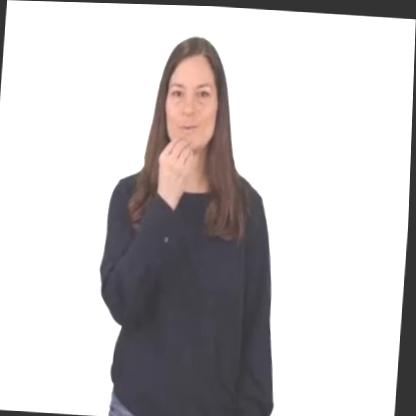Food: (90, 29, 300, 416)
